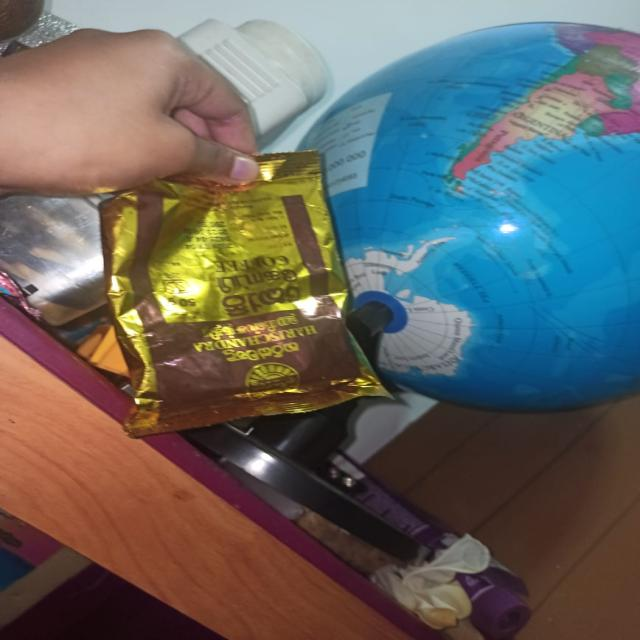Harischandra Coffee: (84, 158, 422, 454)
